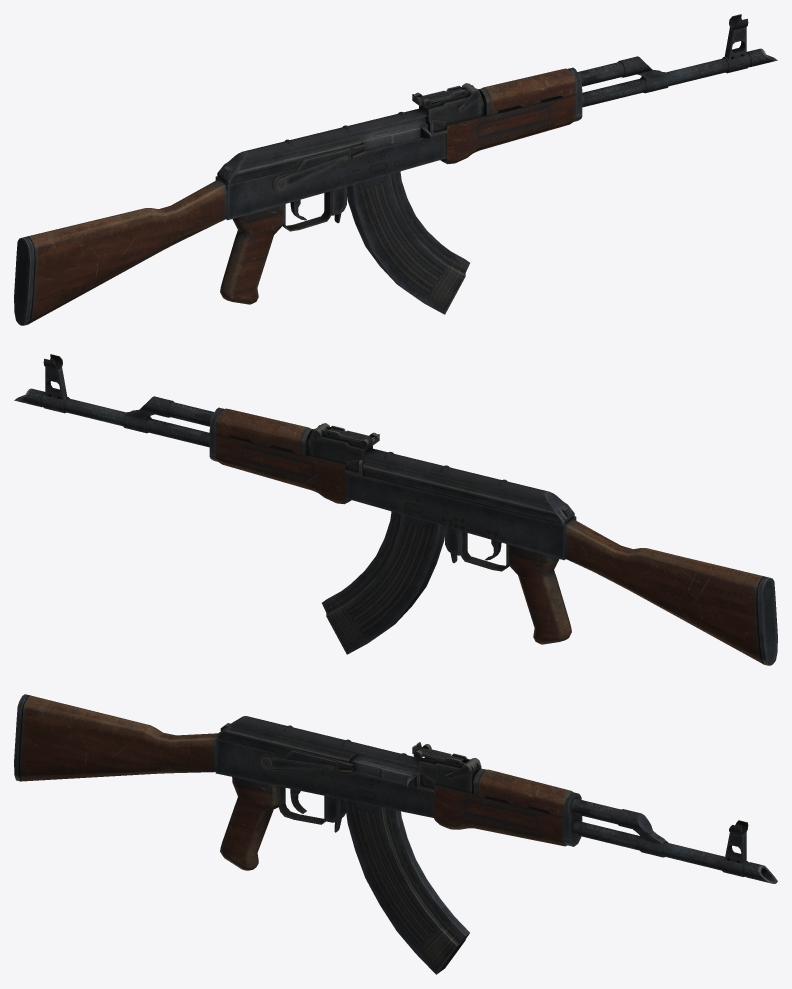
The picture shows the model from 3 angles, top to bottom: view 1: azimuth 30°, elevation 25°; view 2: azimuth 150°, elevation 25°; view 3: azimuth 330°, elevation 25°; orthographic projection.
Visible parts, largest first — view 1: AK47; view 2: AK47; view 3: AK47.
Boxes of the visible parts, x1,y1,x2,y2 form: AK47: (14, 14, 777, 325); AK47: (14, 354, 777, 665); AK47: (14, 694, 777, 974).
Bounding box in the file's own units: 946 × 264 × 40.41.
1 material, 1 textured.
